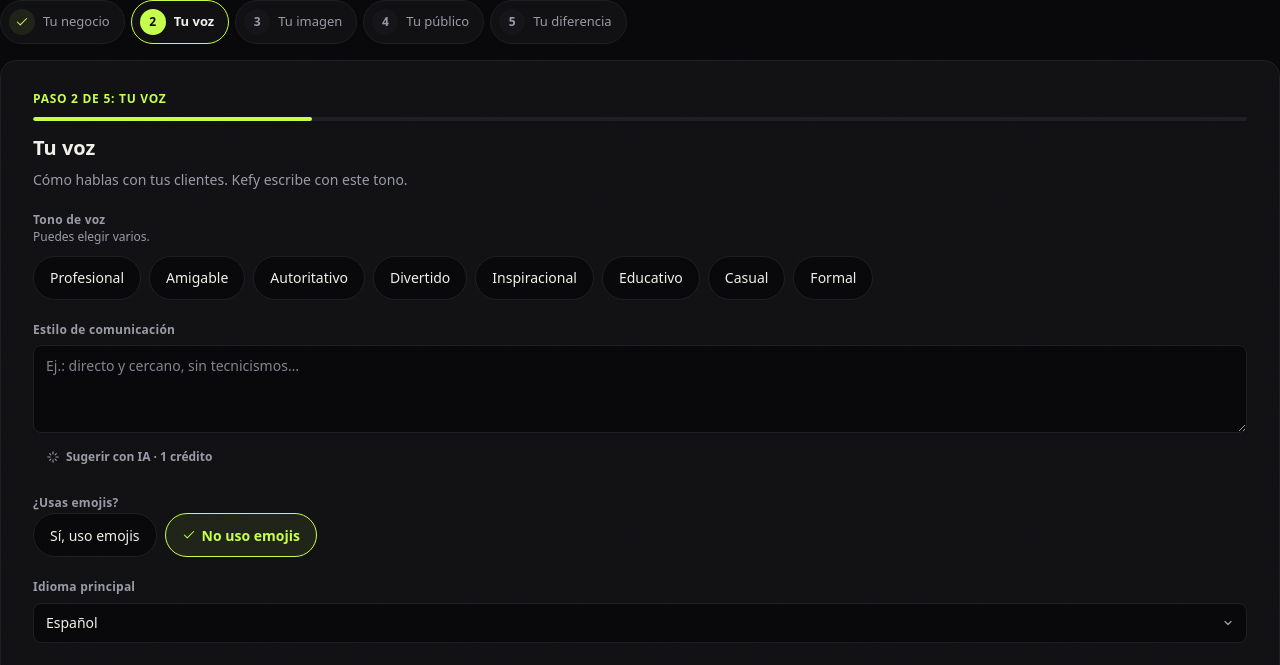
it: BrandKitWizard › valida antes de enviar y lleva a la pantalla del error
Expected: the text "Paso 2 de 5: Tu voz" is shown, [33,90,166,107]
Click the button "3 Tu imagen".
click(296, 22)  # box [235,0,357,44]
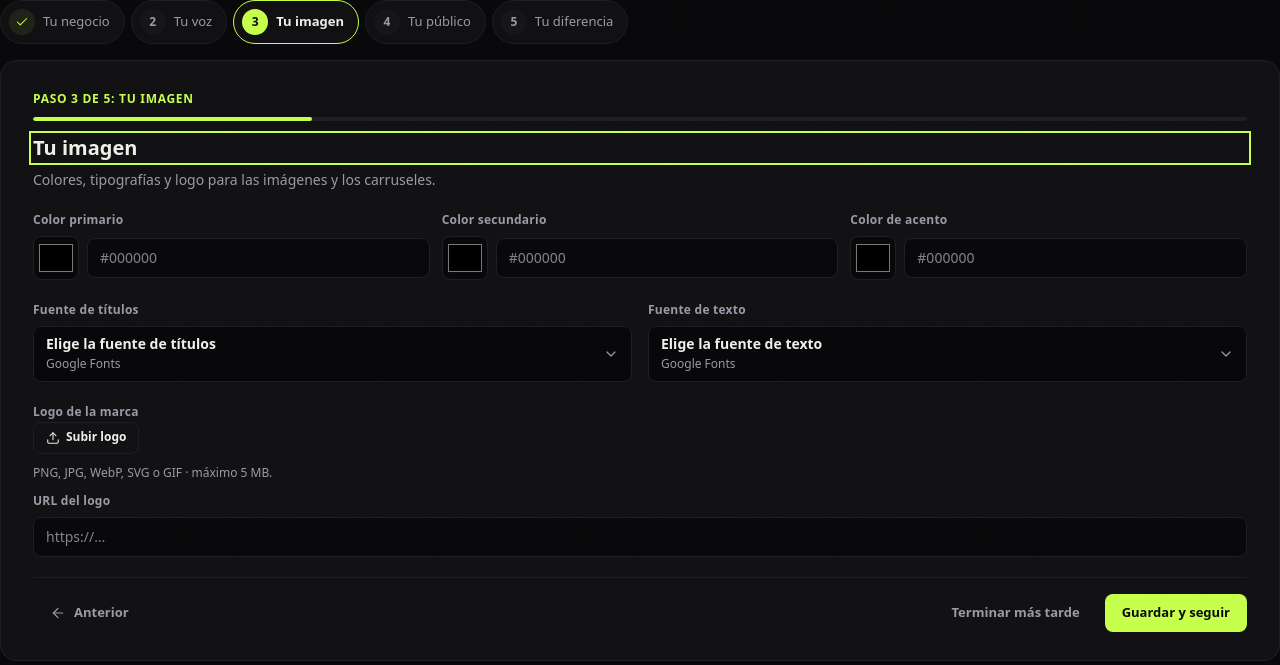
Type "rojo" into the field labelled "Color primario".
click(258, 258); type("rojo")  # box [87,238,430,278]
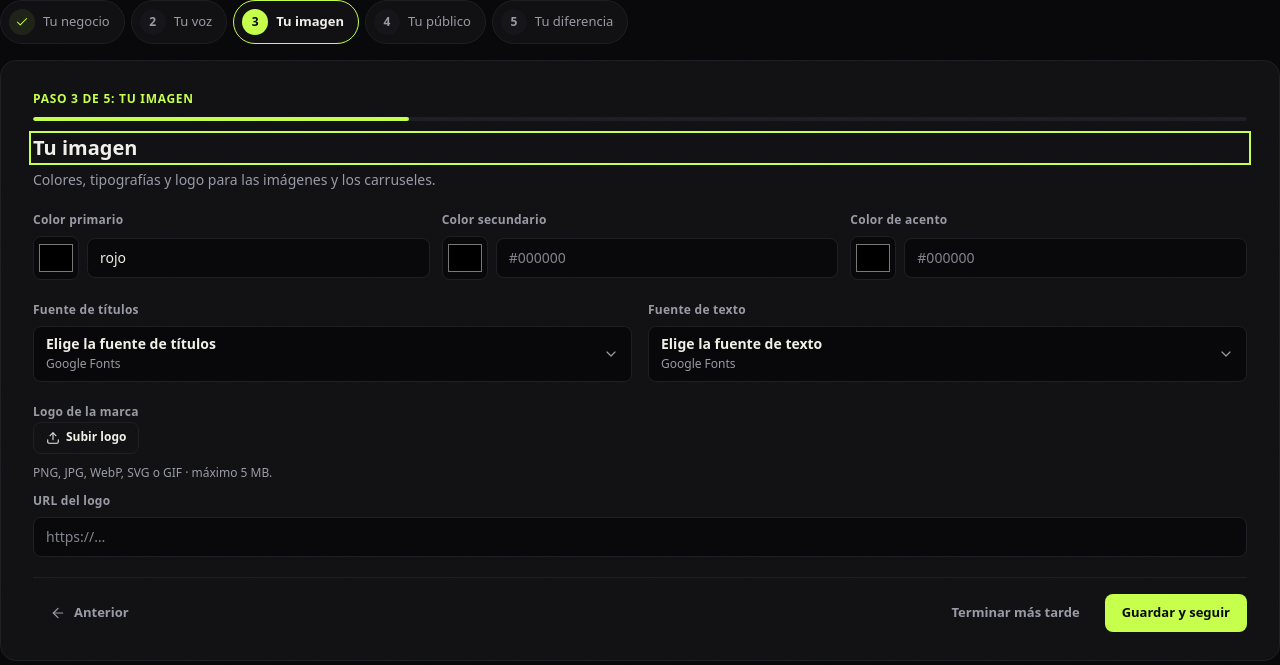
Click the button "Guardar y seguir".
click(1176, 613)  # box [1105,594,1247,632]
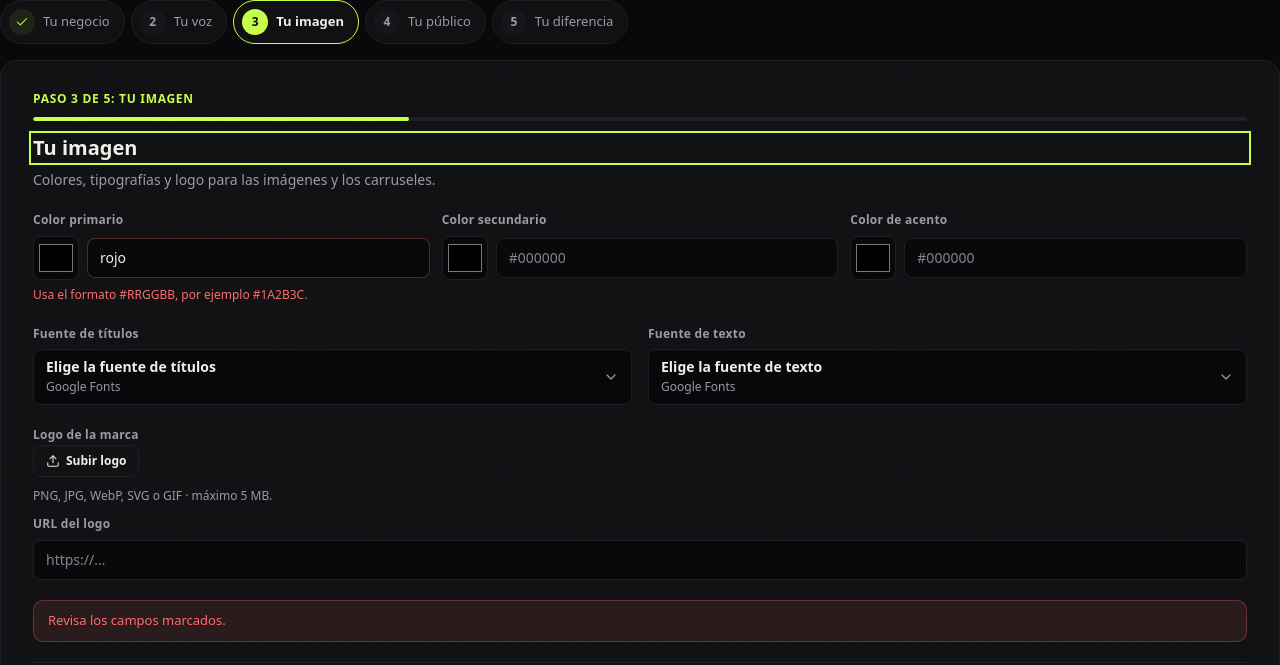
Expected: the text "Revisa los campos marcados." is shown, [48,611,226,631]
